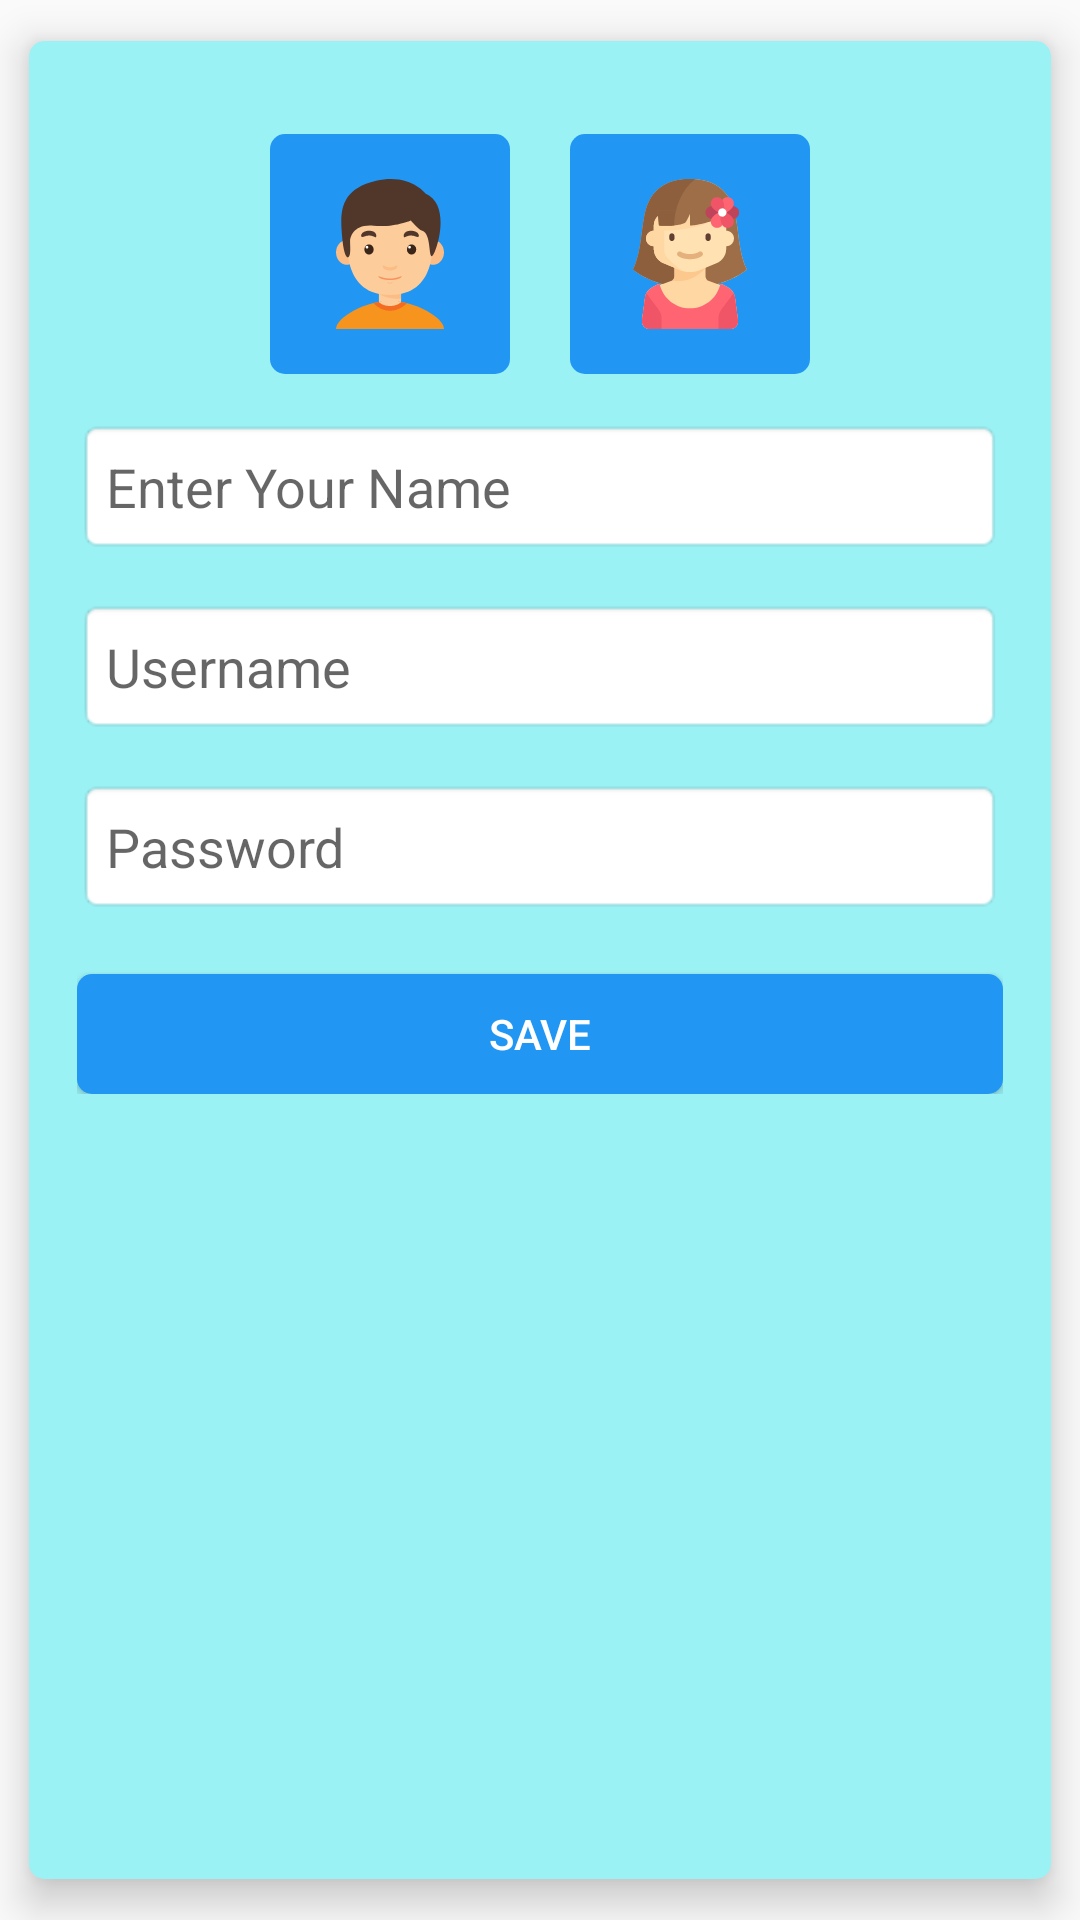

Where to tap for icons on this 1080×1920 app screen, as (x=x, y=y):
boy: (x=390, y=254)
girl: (x=690, y=254)
